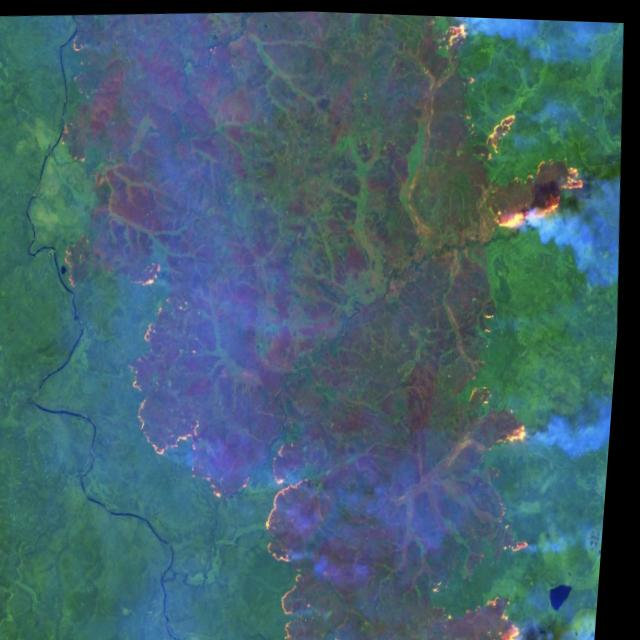fire: (384, 12, 622, 640), (107, 249, 275, 512), (264, 425, 359, 640)
